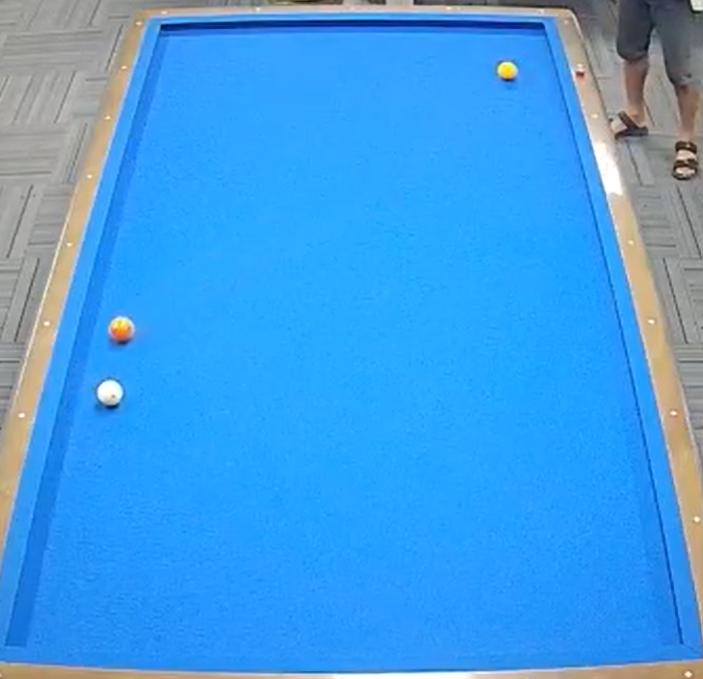orange ball: (103, 312, 140, 348)
white ball: (92, 374, 130, 414)
yellow ball: (495, 58, 522, 84)
